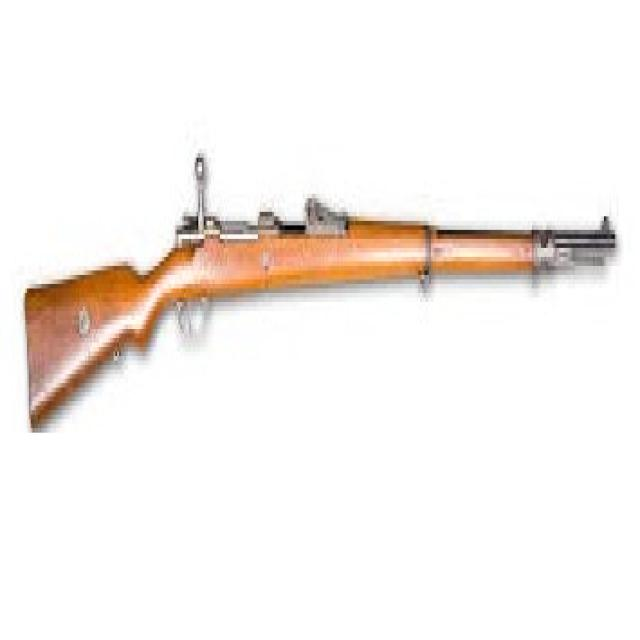rifle: (21, 135, 625, 448)
